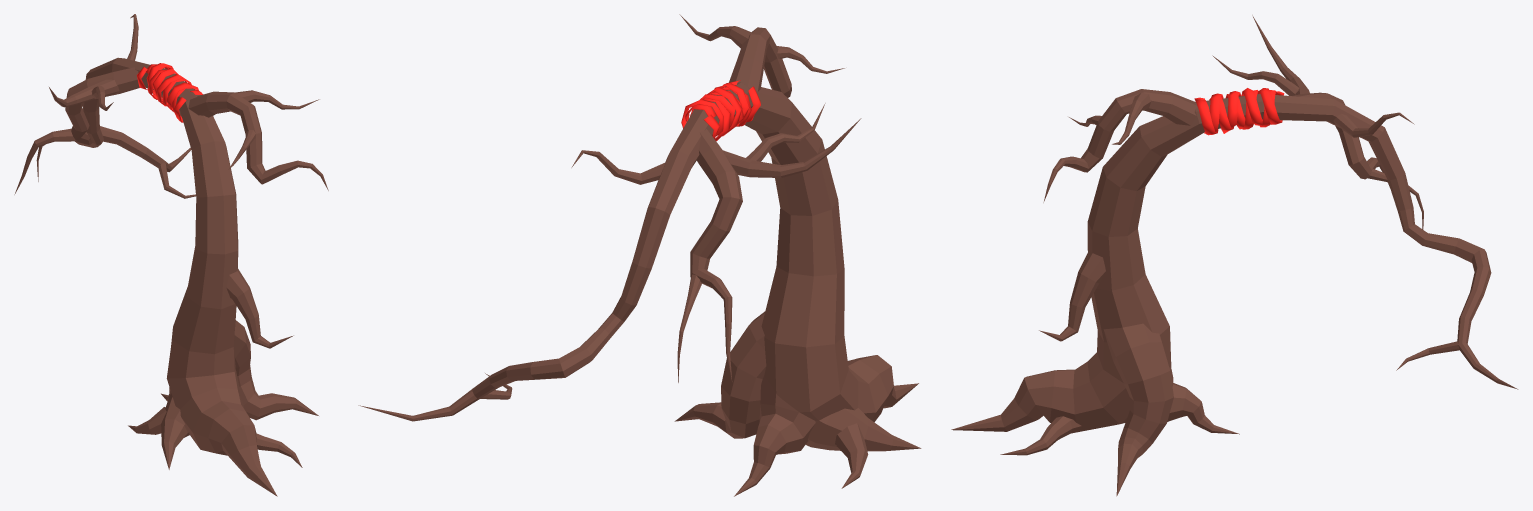
The model's file is Tree.Curve.fbx.
The picture shows the model from 3 angles, left to right: view 1: azimuth 30°, elevation 25°; view 2: azimuth 150°, elevation 25°; view 3: azimuth 270°, elevation 25°; orthographic projection. The views are drawn at different scales.
Visible parts, largest first — view 1: NurbsPath.118, BezierCurve.008; view 2: NurbsPath.118, BezierCurve.008; view 3: NurbsPath.118, BezierCurve.008.
Part boxes in pixels (x1,y1,x2,y2): NurbsPath.118: (14, 14, 328, 496); BezierCurve.008: (136, 63, 202, 122); NurbsPath.118: (358, 14, 921, 496); BezierCurve.008: (681, 80, 760, 141); NurbsPath.118: (951, 15, 1518, 496); BezierCurve.008: (1194, 88, 1284, 135).
Bounding box in the file's own units: 1018 × 1180 × 1643.
